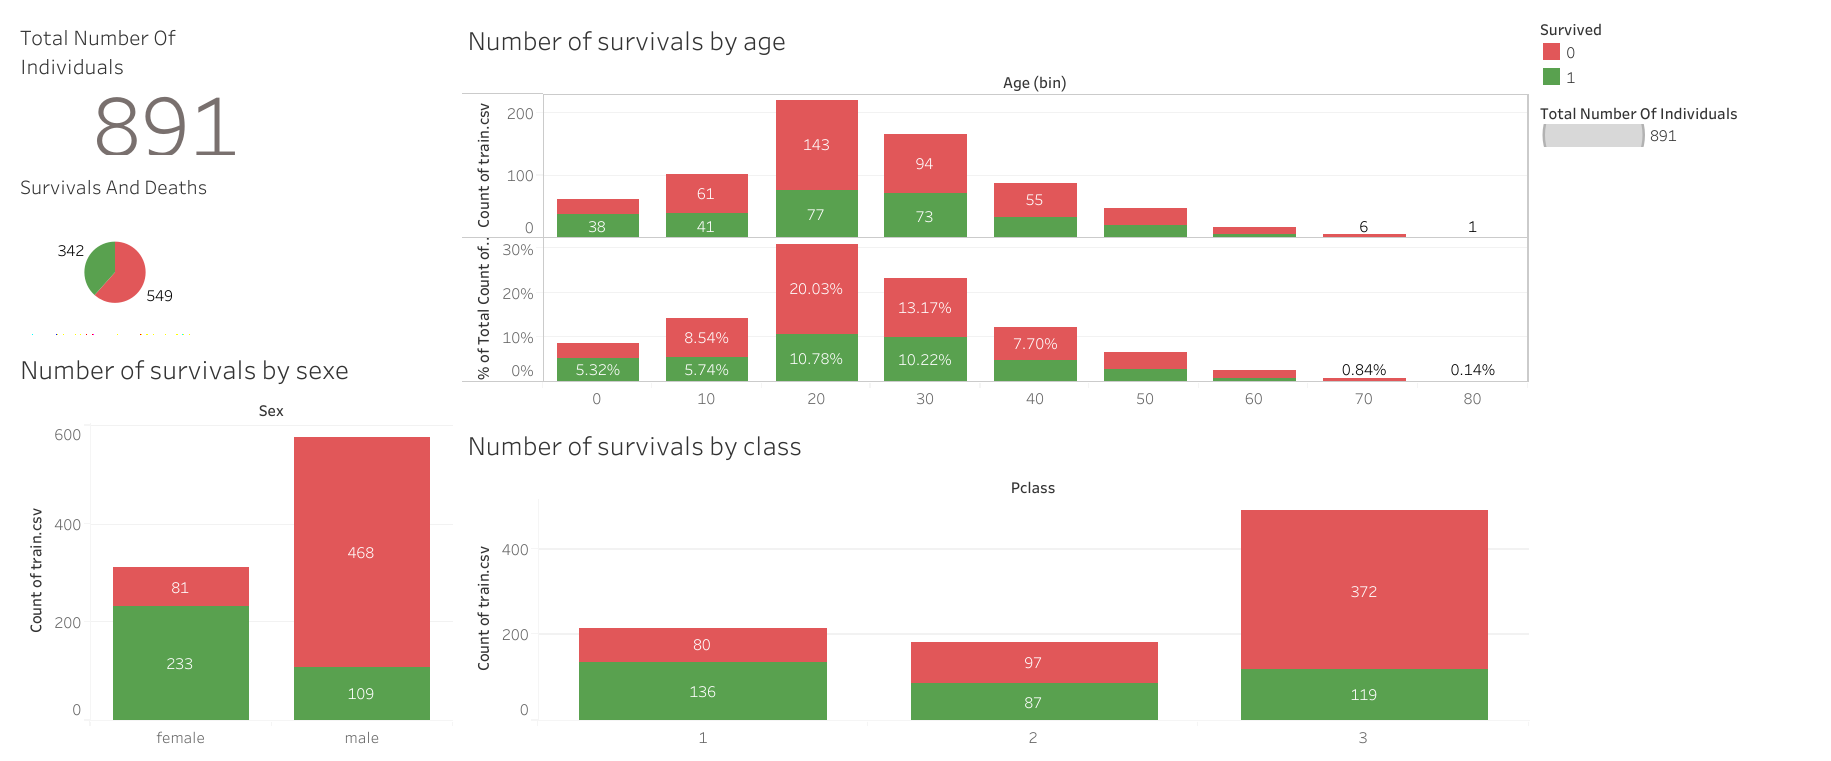

The dashboard page shown, as its layout file describes it:
{"tool":"tableau","page":{"name":"Titanic dashboard","canvas":[1000,1000],"units":"permille","ordinal":0},"visuals":[{"type":"worksheet","title":"Total Number Of Individuals","mark":"Automatic","box":[4.8,9.3,249.9,198.6]},{"type":"worksheet","title":"byAge","mark":"Automatic","rows":["train.csv_841A11913C2F48578C12877174AEA01A","train.csv_841A11913C2F48578C12877174AEA01A"],"cols":["Age (bin)"],"box":[254.8,9.3,601,535.4]},{"type":"legend","title":"byClass","param":"[federated.096872h0vt78ny1fg15fs020xyaw].[none:Survived:ok]","box":[855.8,9.3,139.4,83.6]},{"type":"legend","title":"Survivals And Deaths","param":"[federated.096872h0vt78ny1fg15fs020xyaw].[__tableau_internal_object_id__].[cnt:t","box":[855.8,92.9,139.4,59.2]},{"type":"worksheet","title":"Survivals And Deaths","mark":"Pie","box":[4.8,207.9,249.9,235.8]},{"type":"worksheet","title":"bySexe","mark":"Automatic","rows":["train.csv_841A11913C2F48578C12877174AEA01A"],"cols":["Sex"],"box":[4.8,443.7,249.9,547]},{"type":"worksheet","title":"byClass","mark":"Automatic","rows":["train.csv_841A11913C2F48578C12877174AEA01A"],"cols":["Pclass"],"box":[254.8,544.7,601,446]}]}

Visuals, with their boxes on the dashboard's canvas, which has no fixed pixel size, in thousandths of its width and height (x1, y1, x2, y2). These are canvas units, not pixel positions in the 1831x761 screenshot, which may show the page scaled, cropped or inside an application window:
"Total Number Of Individuals" worksheet: <region>5, 9, 255, 208</region>
"byAge" worksheet: <region>255, 9, 856, 545</region>
"byClass" legend: <region>856, 9, 995, 93</region>
"Survivals And Deaths" legend: <region>856, 93, 995, 152</region>
"Survivals And Deaths" worksheet (Pie marks): <region>5, 208, 255, 444</region>
"bySexe" worksheet: <region>5, 444, 255, 991</region>
"byClass" worksheet: <region>255, 545, 856, 991</region>
